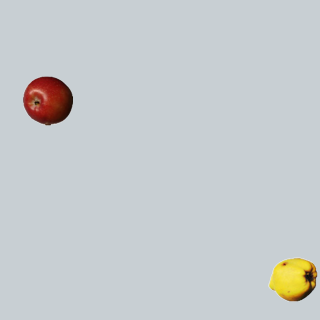Apple Braeburn: (22, 75, 72, 125)
Quince: (267, 254, 317, 304)
